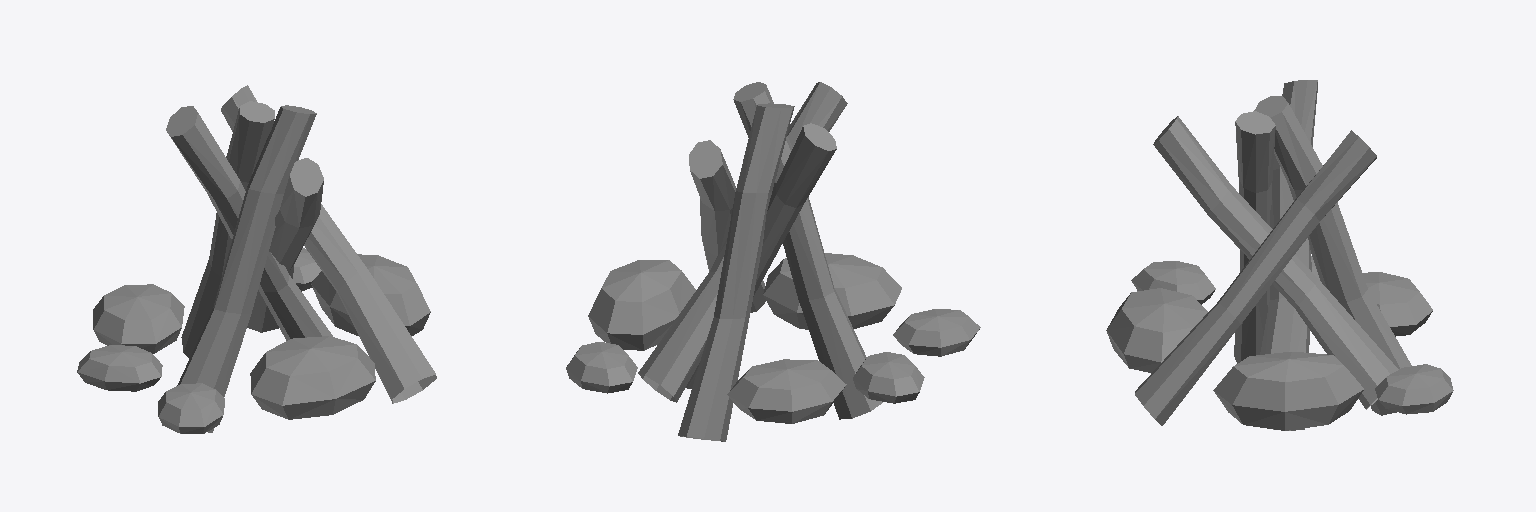
File: CamFire01.obj
3 views of the same model, side by side, from view 1: azimuth 30°, elevation 25°; view 2: azimuth 150°, elevation 25°; view 3: azimuth 270°, elevation 25° (orthographic).
Parts seen in each view (by area): view 1: CampFire01; view 2: CampFire01; view 3: CampFire01.
Boxes of the visible parts, box(x1,y1,x2,y2) form: CampFire01: box(77, 85, 436, 433); CampFire01: box(566, 82, 980, 441); CampFire01: box(1106, 80, 1453, 430).
Size of the model in its own units: 4.91 by 4.33 by 4.47.